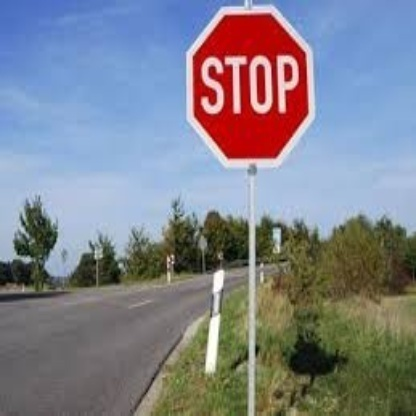stop: (185, 6, 316, 169)
